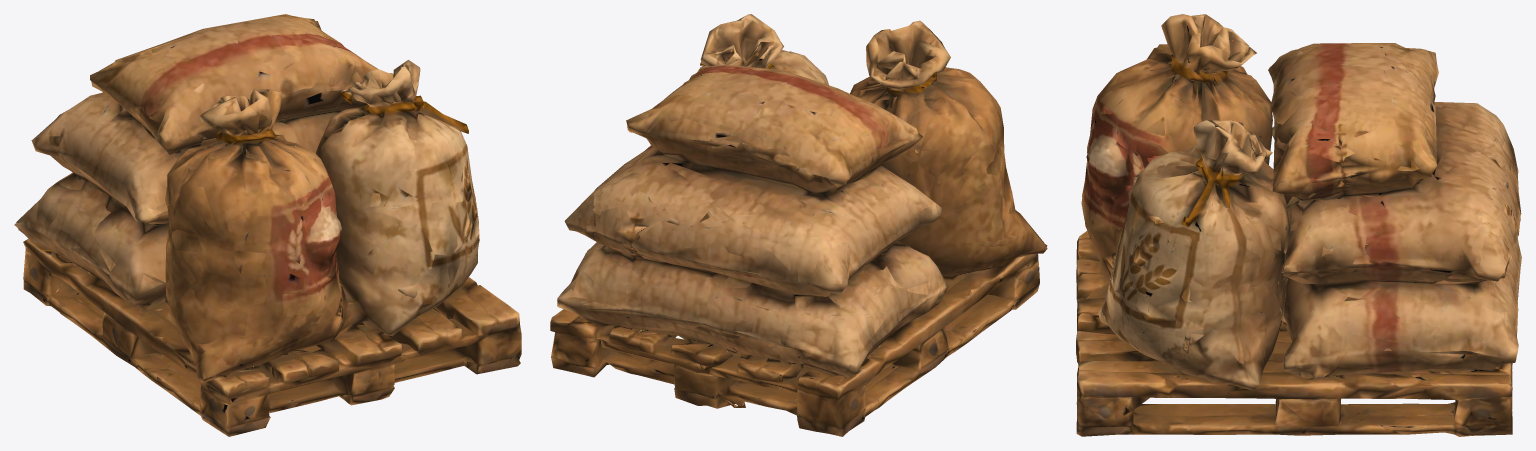
Rendered from d_sacks.glb.
3 views of the same model, side by side, from view 1: azimuth 30°, elevation 25°; view 2: azimuth 150°, elevation 25°; view 3: azimuth 270°, elevation 25° (orthographic). The views are drawn at different scales.
Parts seen in each view (by area): view 1: geometry_0; view 2: geometry_0; view 3: geometry_0.
Boxes of the visible parts, x1,y1,x2,y2 form: geometry_0: (14, 14, 521, 436); geometry_0: (550, 14, 1047, 436); geometry_0: (1076, 14, 1521, 436).
Bounding box in the file's own units: 1.74 × 1.47 × 1.9.
1 material, 1 textured.
